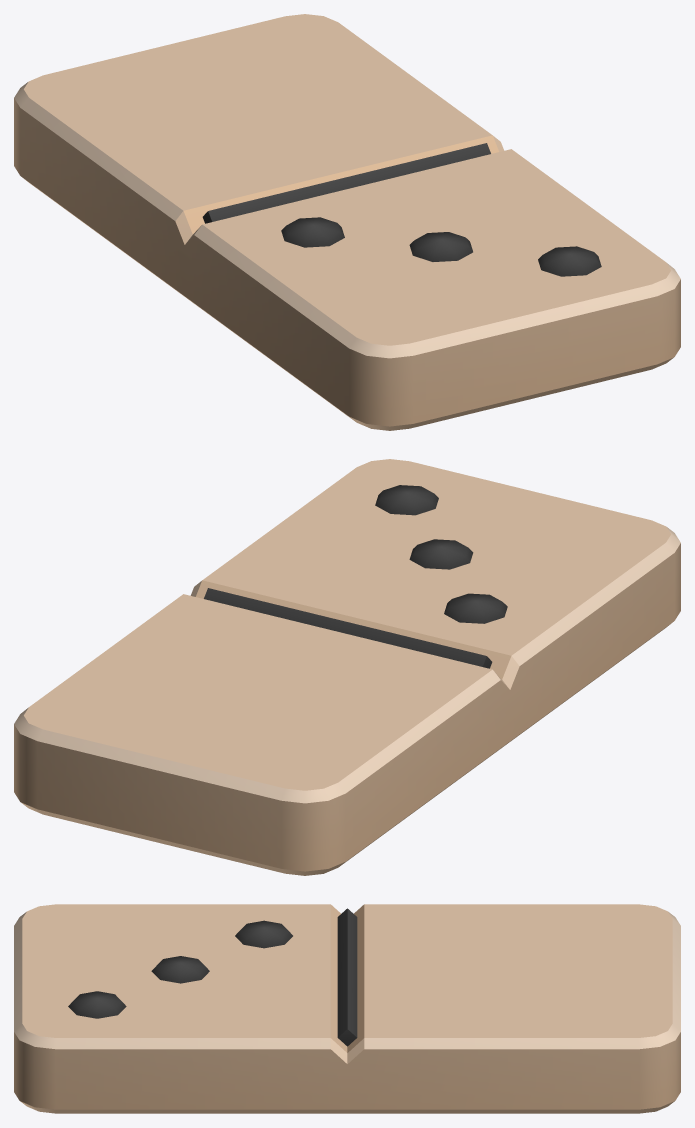
Rendered from domino_tile_0-3.obj.
The picture shows the model from 3 angles, top to bottom: view 1: azimuth 30°, elevation 25°; view 2: azimuth 150°, elevation 25°; view 3: azimuth 270°, elevation 25°; orthographic projection. The views are drawn at different scales.
Parts seen in each view (by area): view 1: domino_tile_0-3; view 2: domino_tile_0-3; view 3: domino_tile_0-3.
Boxes of the visible parts, x1=… form: domino_tile_0-3: x1=14, y1=14, x2=680, y2=430; domino_tile_0-3: x1=14, y1=459, x2=680, y2=875; domino_tile_0-3: x1=14, y1=904, x2=680, y2=1113.
Size of the model in its own units: 1 by 0.2767 by 2.
1 material, 1 textured.
